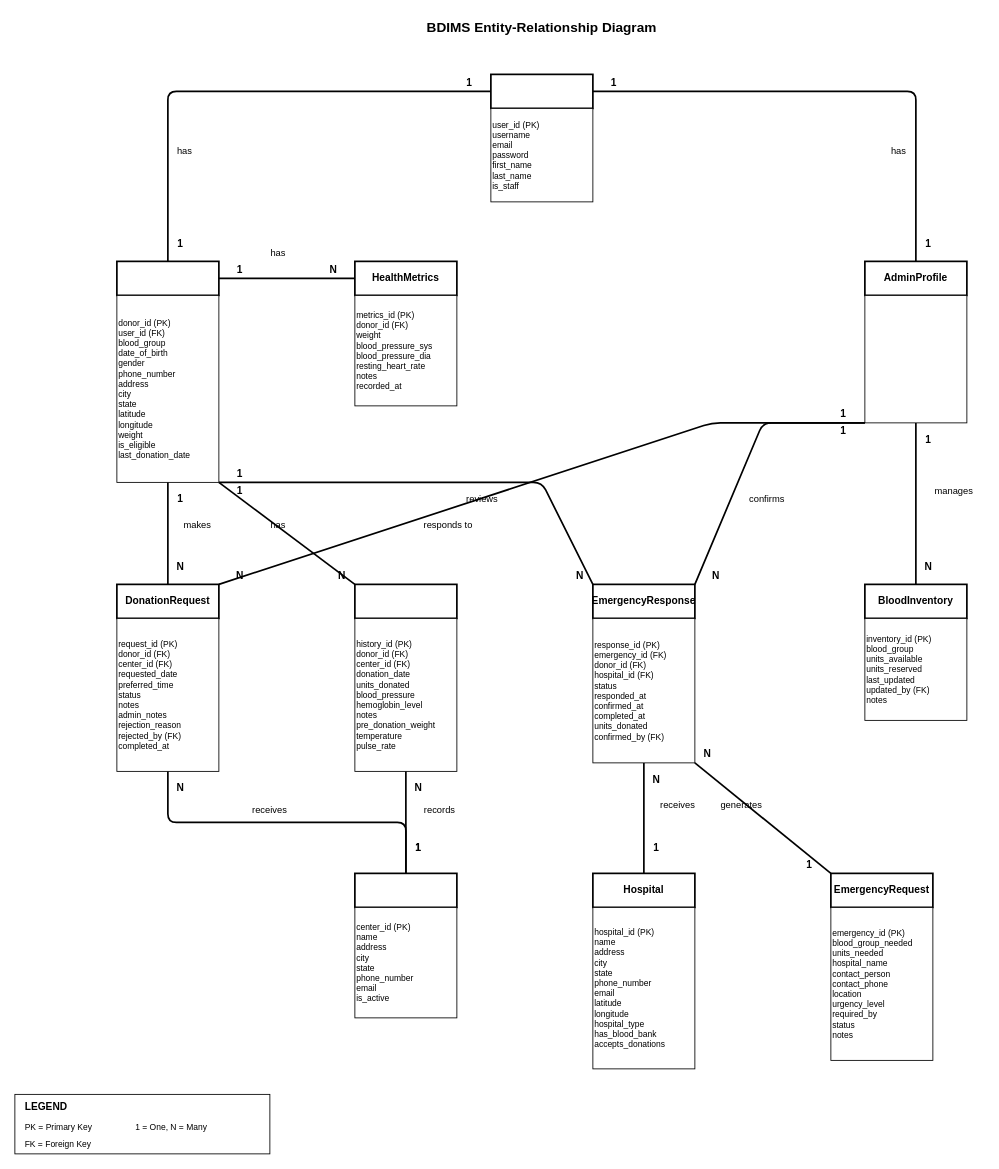
The diagram is 999 pixels wide and 1169 high, and some of its shapes have lost their labels. The centre of each missing label's shape, as x and y in pixels:
"admin_id (PK) user_id (FK) name contact_no address city state email department" belongs at (x=915, y=359).
"DonationCenter" belongs at (x=405, y=890).
"DonationHistory" belongs at (x=405, y=601).
"Donor" belongs at (x=167, y=278).
"User" belongs at (x=541, y=91).
